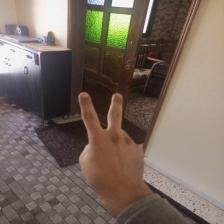two: (70, 90, 147, 194)
